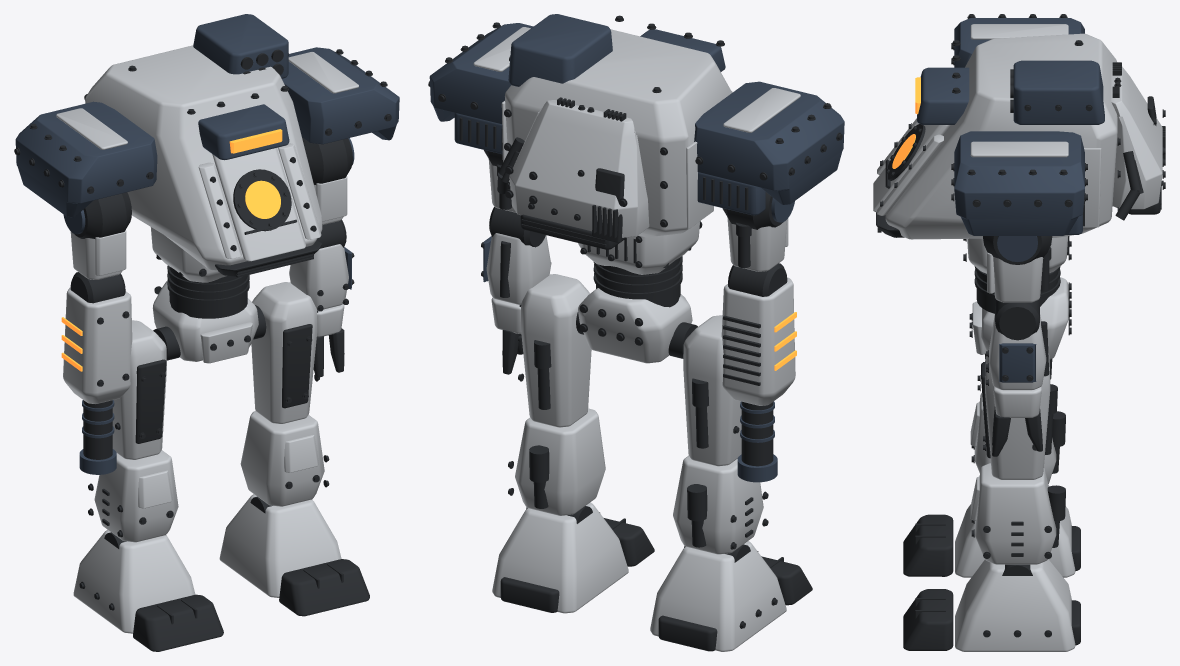
Rendered from Titan_M1_r4.fbx.
3 renders of one model, left to right at view 1: azimuth 30°, elevation 25°; view 2: azimuth 150°, elevation 25°; view 3: azimuth 270°, elevation 25°, orthographic. The views are drawn at different scales.
Visible parts, largest first — view 1: M1_Torso_Upper, M1_Shoulder_R, M1_Cannon, M1_Shoulder_L, M1_Thigh_L, M1_Foot_L, M1_Foot_R, M1_Hatch_Center, M1_Shin_L, M1_Shin_R, M1_Thigh_R, M1_Pelvis (+13 smaller); view 2: M1_Torso_Upper, M1_Backpack, M1_Shoulder_R, M1_Cannon, M1_Foot_L, M1_Foot_R, M1_Thigh_L, M1_Shin_L, M1_Shoulder_L, M1_Shin_R, M1_Thigh_R, M1_Pelvis (+10 smaller); view 3: M1_Torso_Upper, M1_Shoulder_L, M1_Foot_L, M1_Shin_L, M1_Backpack, M1_Pod_L, M1_Forearm_L, M1_Thigh_L, M1_UpperArm_L, M1_Shoulder_R, M1_Toe_R, M1_Toe_L (+10 smaller).
Part boxes in pixels (box(x1,y1,x2,y2)): M1_Torso_Upper: box(84, 45, 322, 277); M1_Shoulder_R: box(14, 101, 157, 217); M1_Cannon: box(61, 272, 132, 474); M1_Shoulder_L: box(282, 47, 399, 144); M1_Thigh_L: box(251, 282, 319, 423); M1_Foot_L: box(219, 494, 341, 597); M1_Foot_R: box(73, 529, 195, 633); M1_Hatch_Center: box(212, 148, 305, 261); M1_Shin_L: box(240, 411, 329, 506); M1_Shin_R: box(88, 450, 178, 542); M1_Thigh_R: box(112, 320, 166, 459); M1_Pelvis: box(152, 280, 266, 363); M1_Torso_Upper: box(501, 15, 731, 237); M1_Backpack: box(497, 97, 649, 249); M1_Shoulder_R: box(694, 81, 844, 215); M1_Cannon: box(721, 263, 796, 482); M1_Foot_L: box(492, 502, 628, 613); M1_Foot_R: box(650, 541, 786, 651); M1_Thigh_L: box(518, 274, 591, 427); M1_Shin_L: box(508, 408, 605, 515); M1_Shoulder_L: box(428, 22, 533, 154); M1_Shin_R: box(673, 455, 768, 554); M1_Thigh_R: box(683, 315, 741, 466); M1_Pelvis: box(576, 288, 697, 363); M1_Torso_Upper: box(876, 33, 1120, 239); M1_Shoulder_L: box(951, 131, 1087, 235); M1_Foot_L: box(955, 559, 1080, 651); M1_Shin_L: box(970, 463, 1065, 564); M1_Backpack: box(1111, 62, 1165, 220); M1_Pod_L: box(1010, 60, 1104, 124); M1_Forearm_L: box(986, 300, 1049, 390); M1_Thigh_L: box(977, 353, 1057, 479); M1_UpperArm_L: box(983, 236, 1052, 302); M1_Shoulder_R: box(951, 14, 1084, 67); M1_Toe_R: box(903, 514, 953, 576); M1_Toe_L: box(903, 589, 953, 650).
Size of the model in its own units: 3.96 by 5.92 by 2.86.
